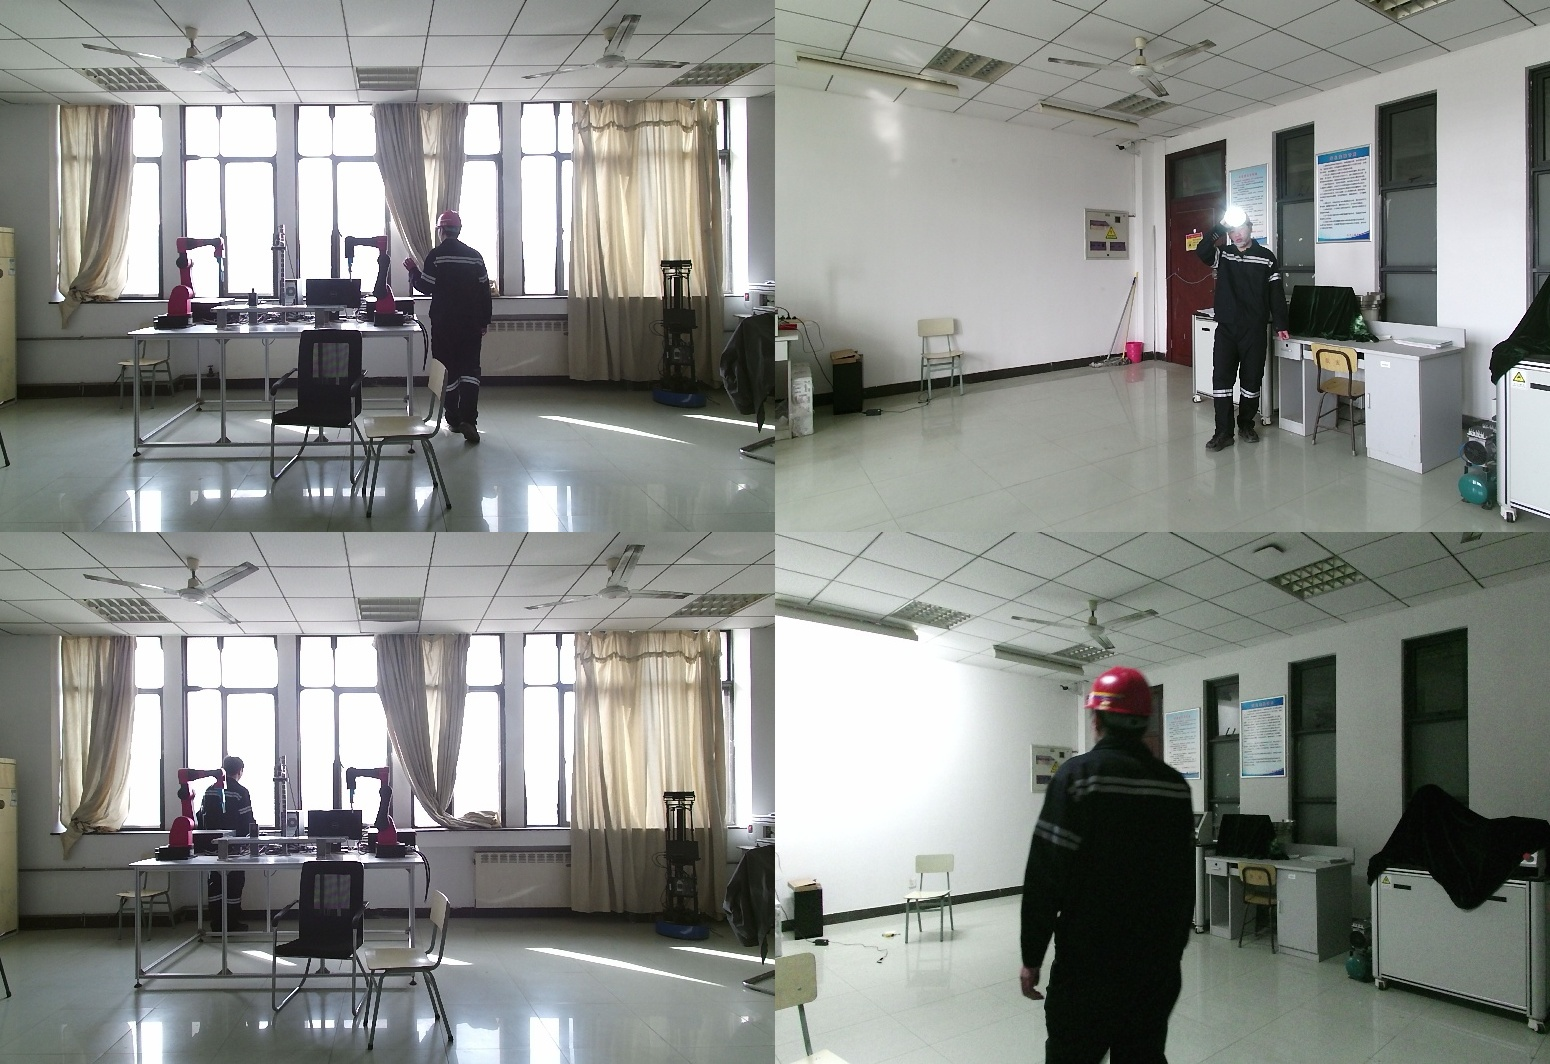person: (1021, 667, 1217, 1064), (1201, 207, 1296, 455), (406, 211, 502, 448), (198, 760, 254, 949)
